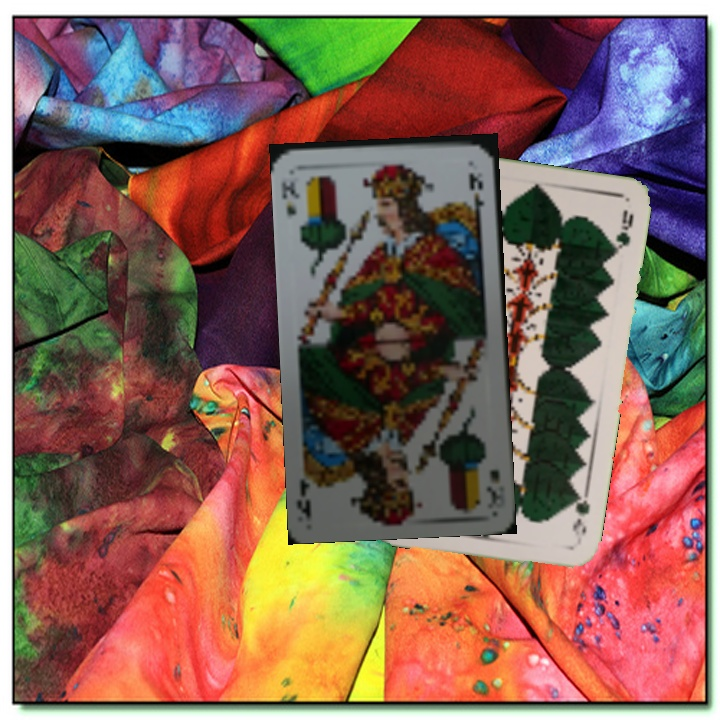EK: (278, 177, 303, 218), (483, 465, 504, 508)
G9: (568, 487, 592, 540)
